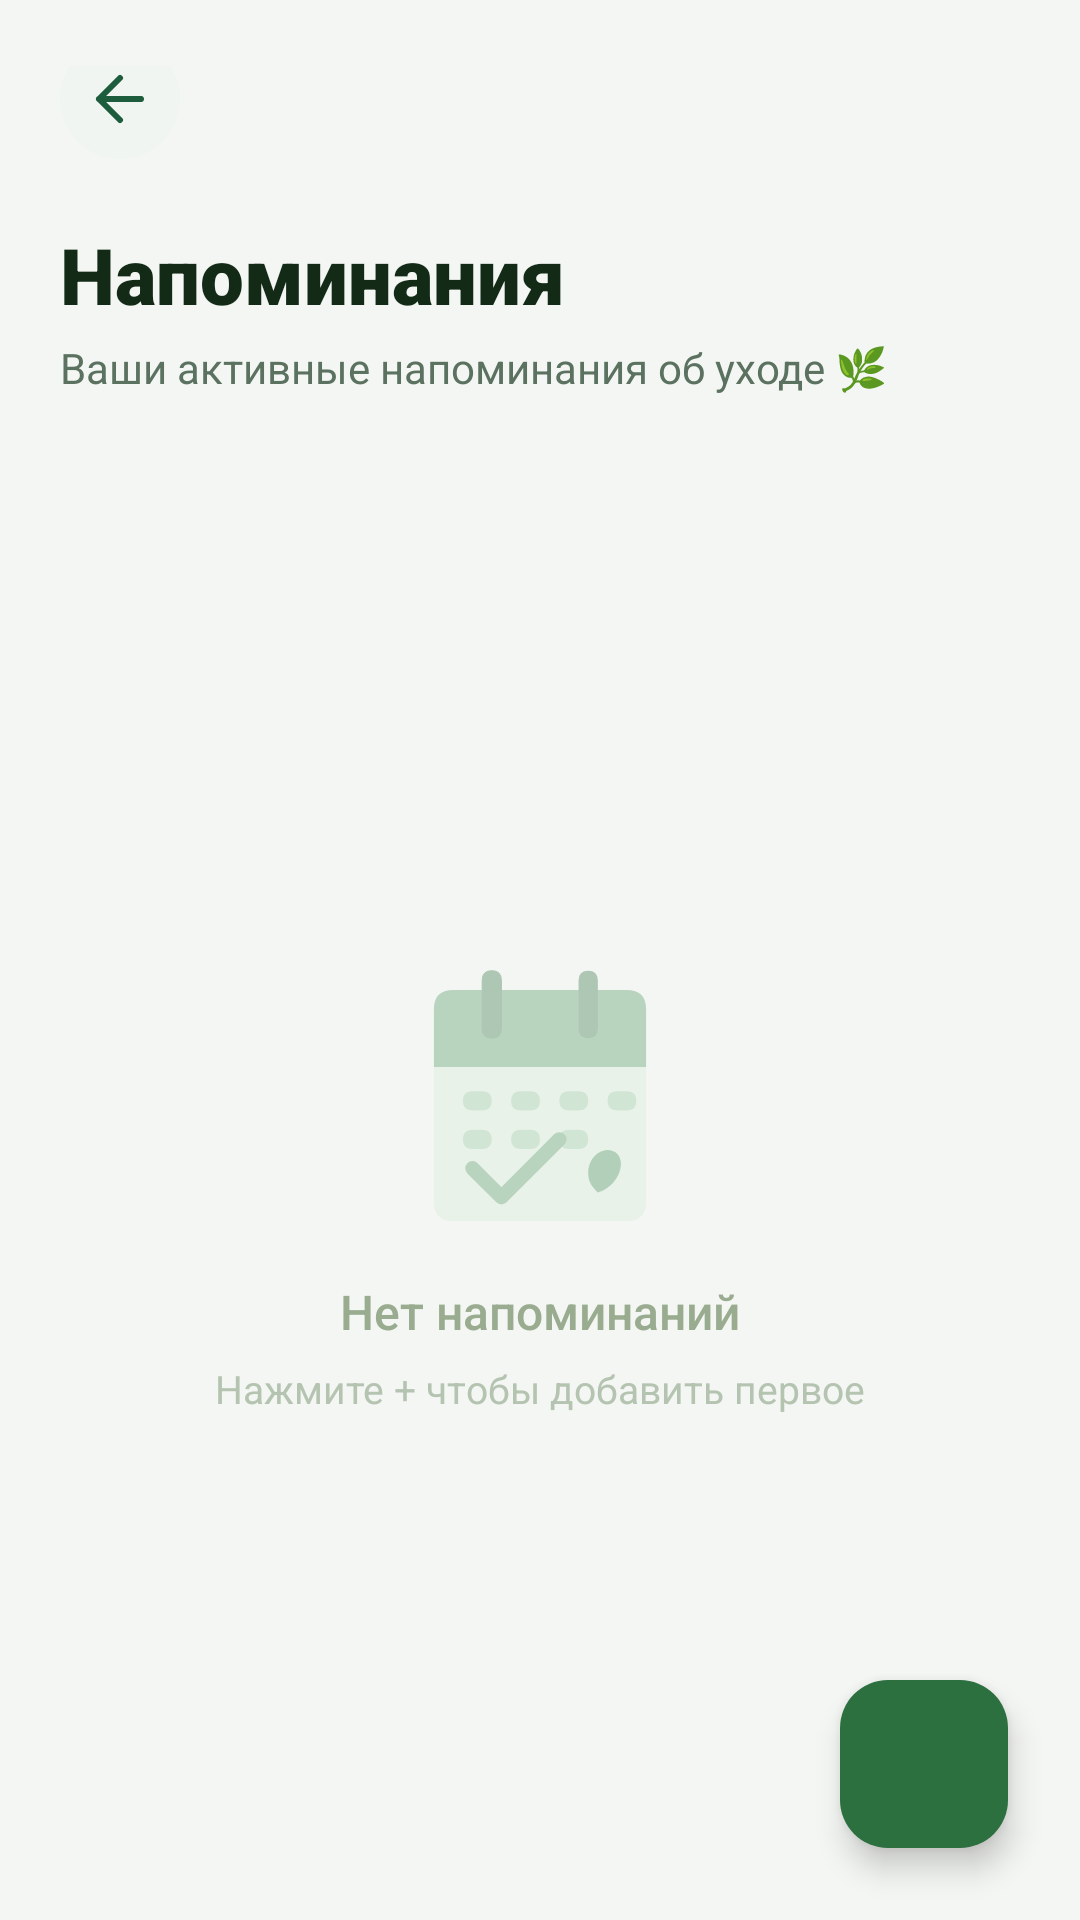

Named icons in this screenshot (1080px×1920px) and their centers, [x,y]:
calendar reminder: [540,1095]
Назад: [120,99]
